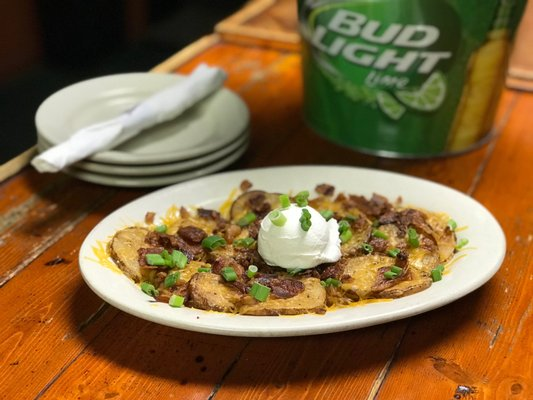pizza: (296, 0, 525, 160)
